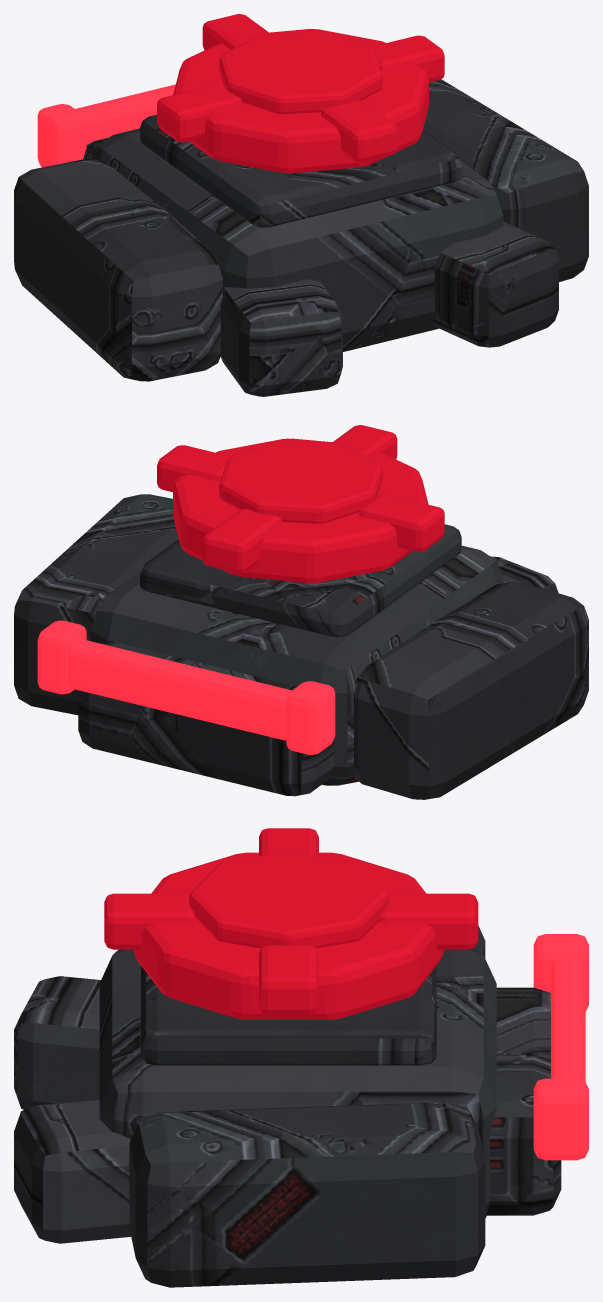
The model's file is SecurityWardenModel.fbx.
3 renders of one model, top to bottom at view 1: azimuth 30°, elevation 25°; view 2: azimuth 150°, elevation 25°; view 3: azimuth 270°, elevation 25°, orthographic. The views are drawn at different scales.
Parts seen in each view (by area): view 1: Warden Chassis, Warden Crown, Warden Eye; view 2: Warden Chassis, Warden Crown, Warden Eye; view 3: Warden Chassis, Warden Crown, Warden Eye.
Boxes of the visible parts, x1=… form: Warden Chassis: x1=14, y1=79, x2=588, y2=396; Warden Crown: x1=157, y1=14, x2=444, y2=173; Warden Eye: x1=37, y1=84, x2=175, y2=167; Warden Chassis: x1=14, y1=494, x2=588, y2=799; Warden Crown: x1=157, y1=425, x2=444, y2=582; Warden Eye: x1=37, y1=620, x2=335, y2=754; Warden Chassis: x1=14, y1=925, x2=561, y2=1287; Warden Crown: x1=104, y1=828, x2=478, y2=1019; Warden Eye: x1=533, y1=934, x2=588, y2=1160.
Size of the model in its own units: 1.39 by 0.6725 by 1.25.
3 materials, 1 textured.
